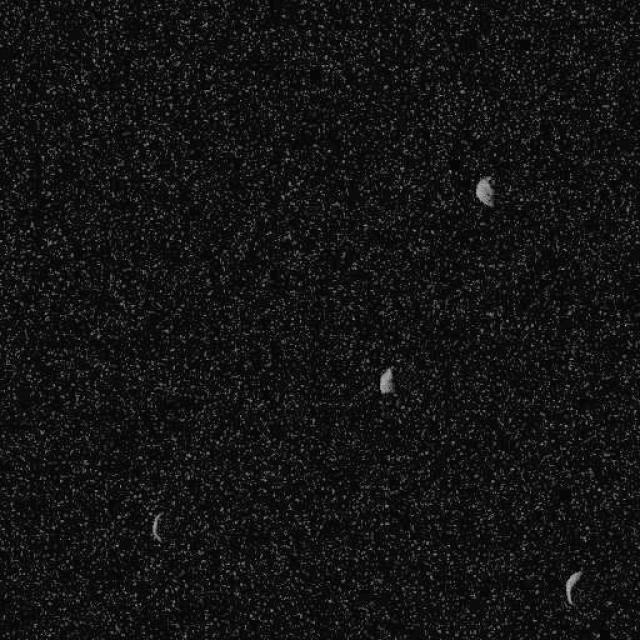D2: (564, 569, 582, 605), (474, 175, 494, 207), (377, 366, 395, 395), (150, 510, 165, 542)
